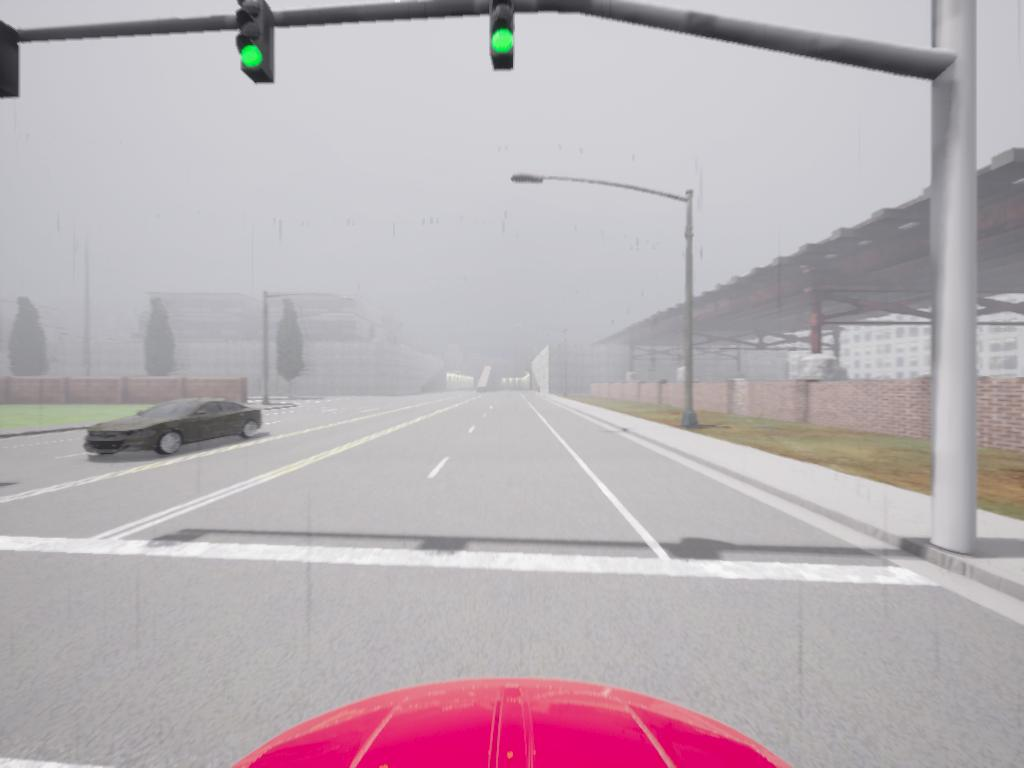traffic_light: (237, 2, 277, 87), (489, 2, 517, 73), (3, 18, 24, 100)
